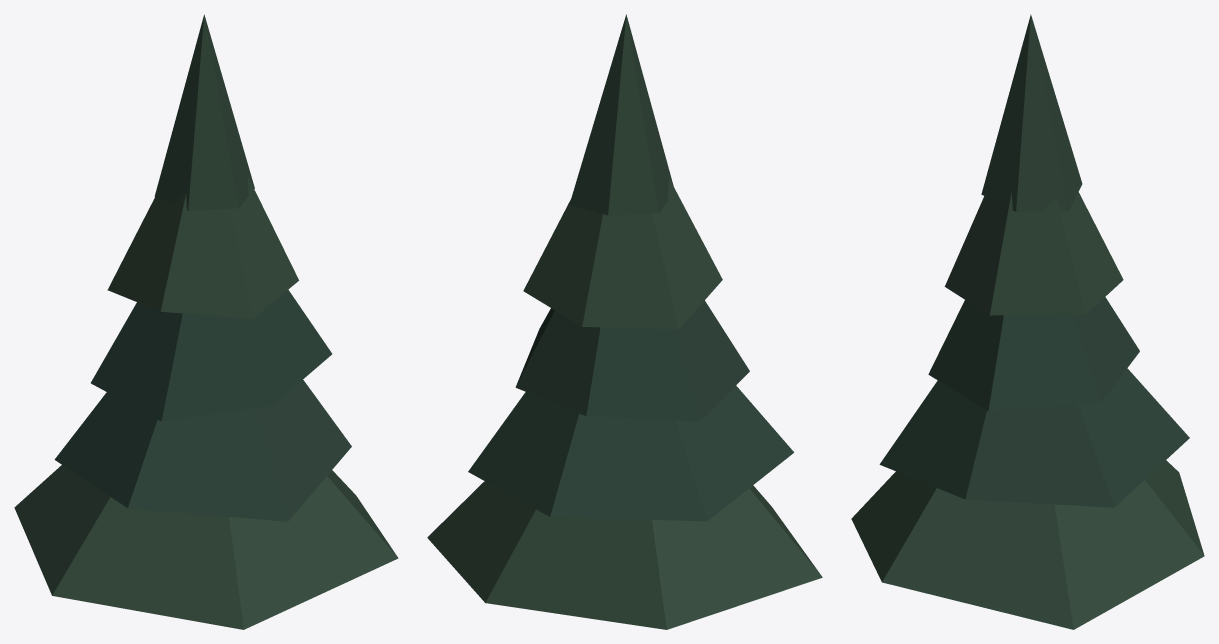
The model's file is conifer_fir_far.glb.
3 renders of one model, left to right at view 1: azimuth 30°, elevation 25°; view 2: azimuth 150°, elevation 25°; view 3: azimuth 270°, elevation 25°, orthographic. The views are drawn at different scales.
Visible parts, largest first — view 1: conifer_fir_far; view 2: conifer_fir_far; view 3: conifer_fir_far.
Boxes of the visible parts, x1,y1,x2,y2 form: conifer_fir_far: (14,14,398,629); conifer_fir_far: (427,14,822,629); conifer_fir_far: (851,14,1204,629).
Size of the model in its own units: 6.81 by 10.5 by 6.1.
